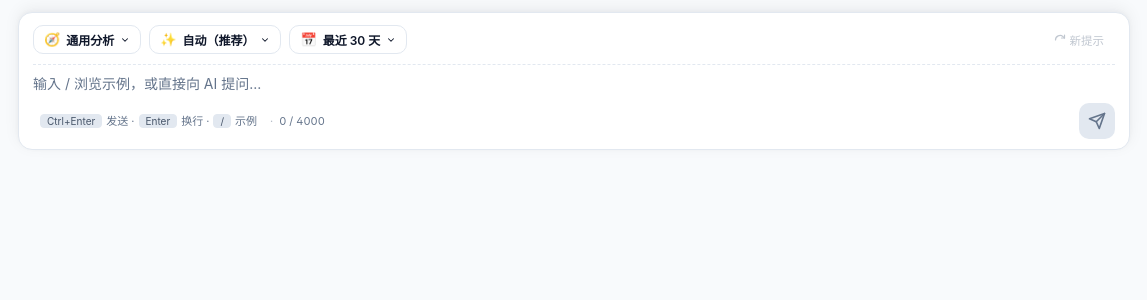
Test: InputBar — keyboard menu navigation › navigates role menu with arrow keys
This screenshot has width=1147, height=300.
Click the button "🧭 通用分析" at (87, 40), box [33,25,141,54]
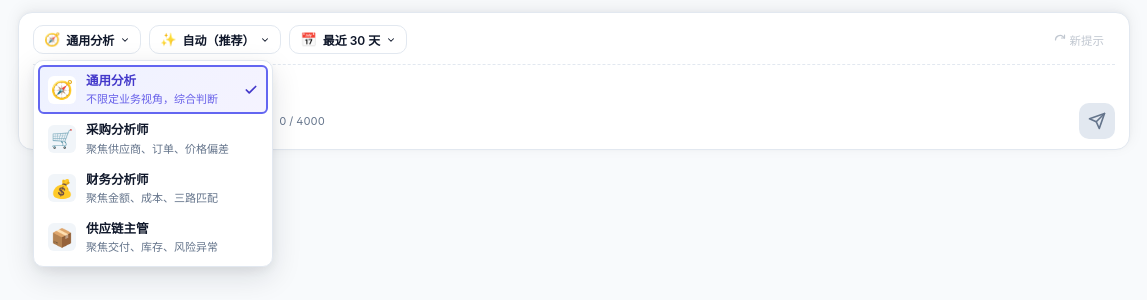
# Arrow down to move focus
Press ArrowDown in the button "🧭 通用分析", box [33,25,141,54]
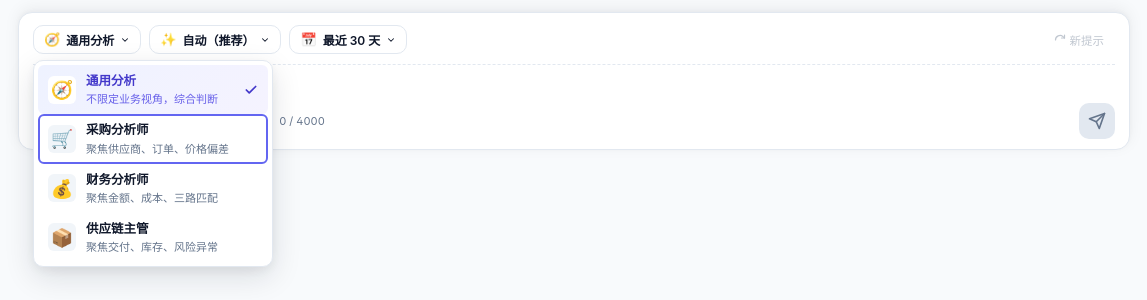
Expected: the option with class "is-focused" is shown, [38,114,268,164]
